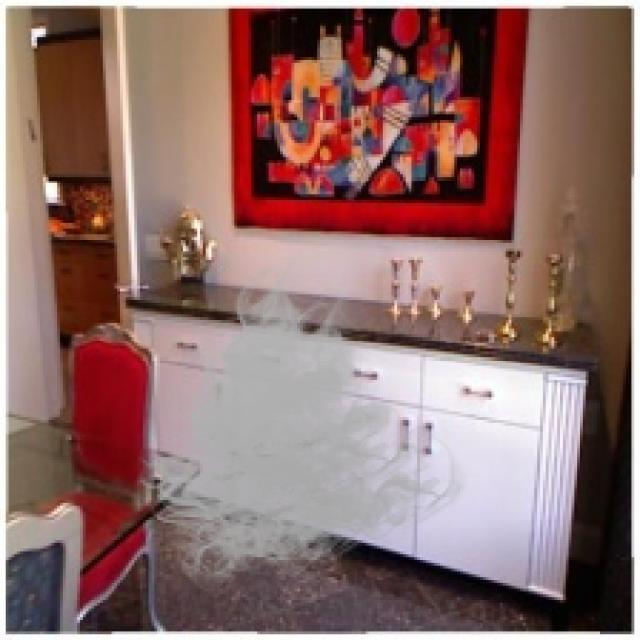Smoke: (126, 257, 468, 600)
